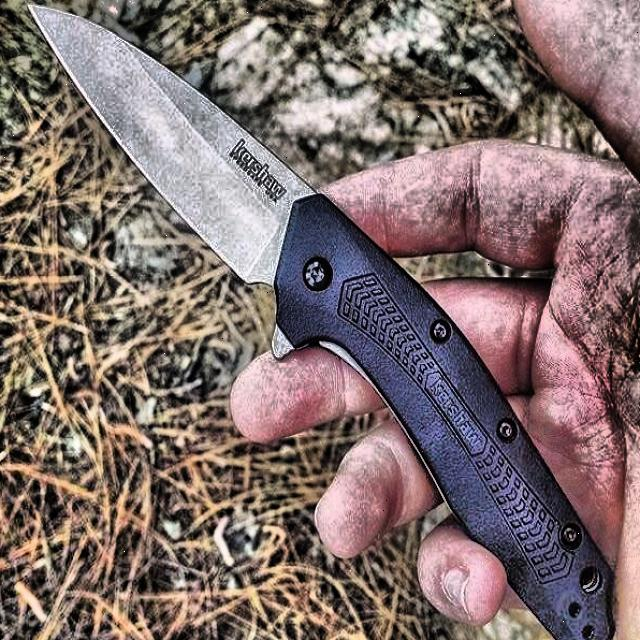knife: (26, 6, 614, 640)
